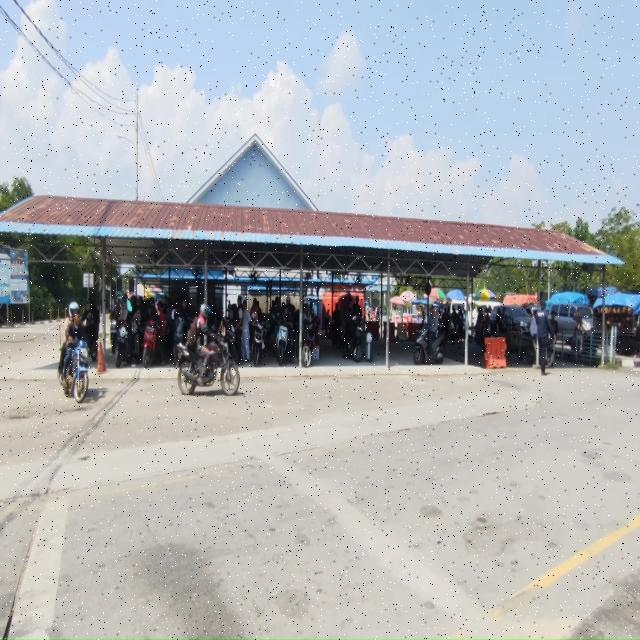Golongan II: (176, 334, 240, 396), (64, 340, 90, 404), (413, 324, 446, 365), (343, 314, 366, 362), (302, 318, 318, 368), (142, 320, 158, 368), (115, 321, 129, 368), (276, 320, 290, 366), (85, 313, 98, 362), (252, 319, 265, 366)
